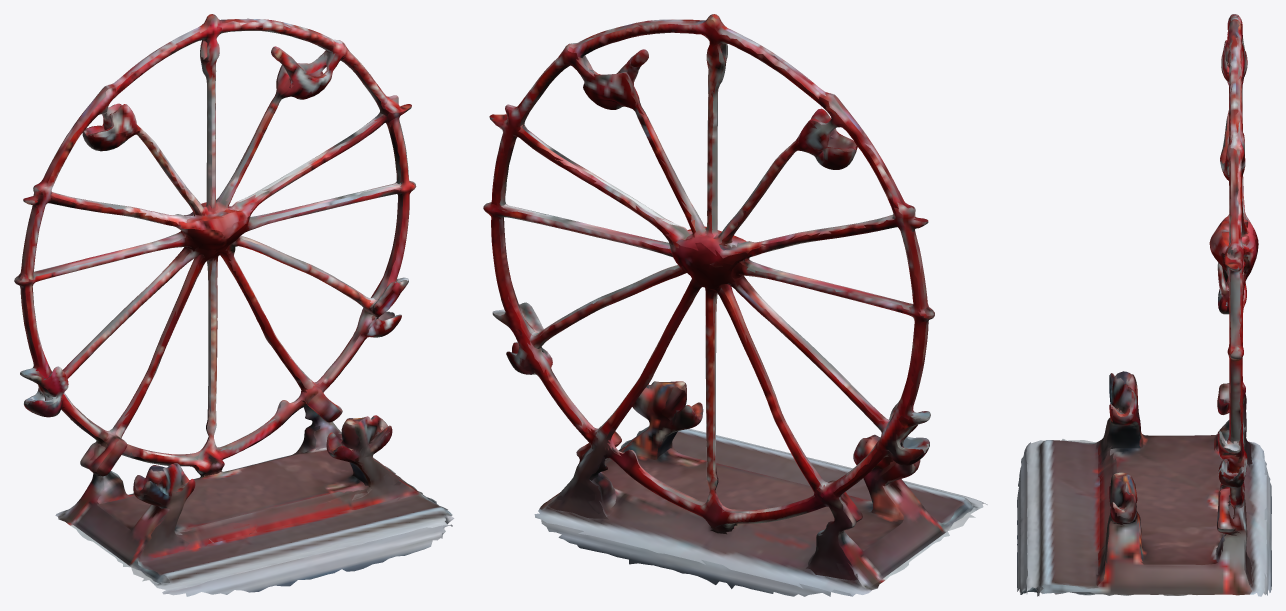
The picture shows the model from 3 angles, left to right: view 1: azimuth 30°, elevation 25°; view 2: azimuth 150°, elevation 25°; view 3: azimuth 270°, elevation 25°; orthographic projection. The views are drawn at different scales.
Parts seen in each view (by area): view 1: input.002; view 2: input.002; view 3: input.002.
Part boxes in pixels (x1,y1,x2,y2): input.002: (14,14,454,596); input.002: (483,14,987,596); input.002: (1017,14,1271,596).
Size of the model in its own units: 20.99 by 24.6 by 10.96.
